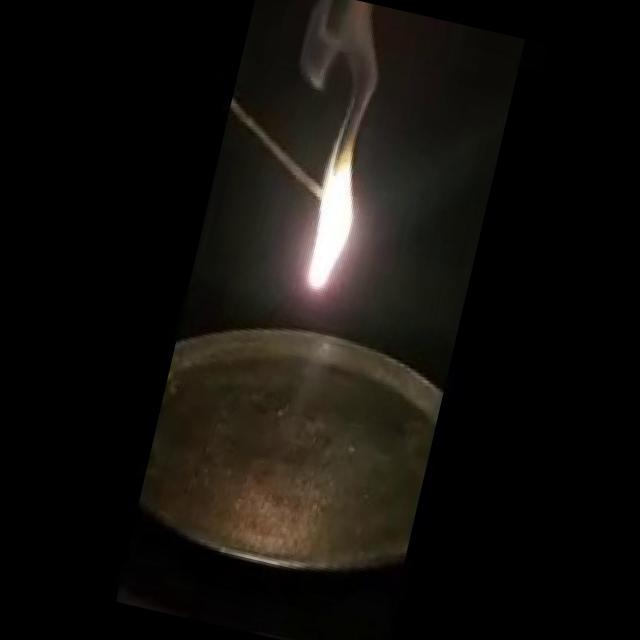Fire: (294, 134, 374, 302)
